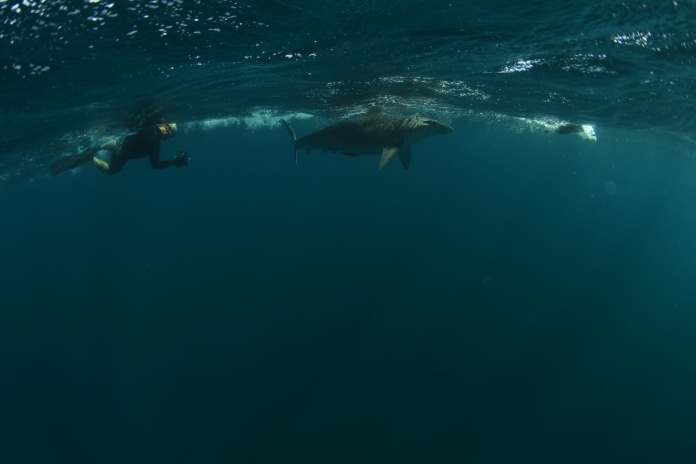Hammer: (247, 60, 463, 200)
